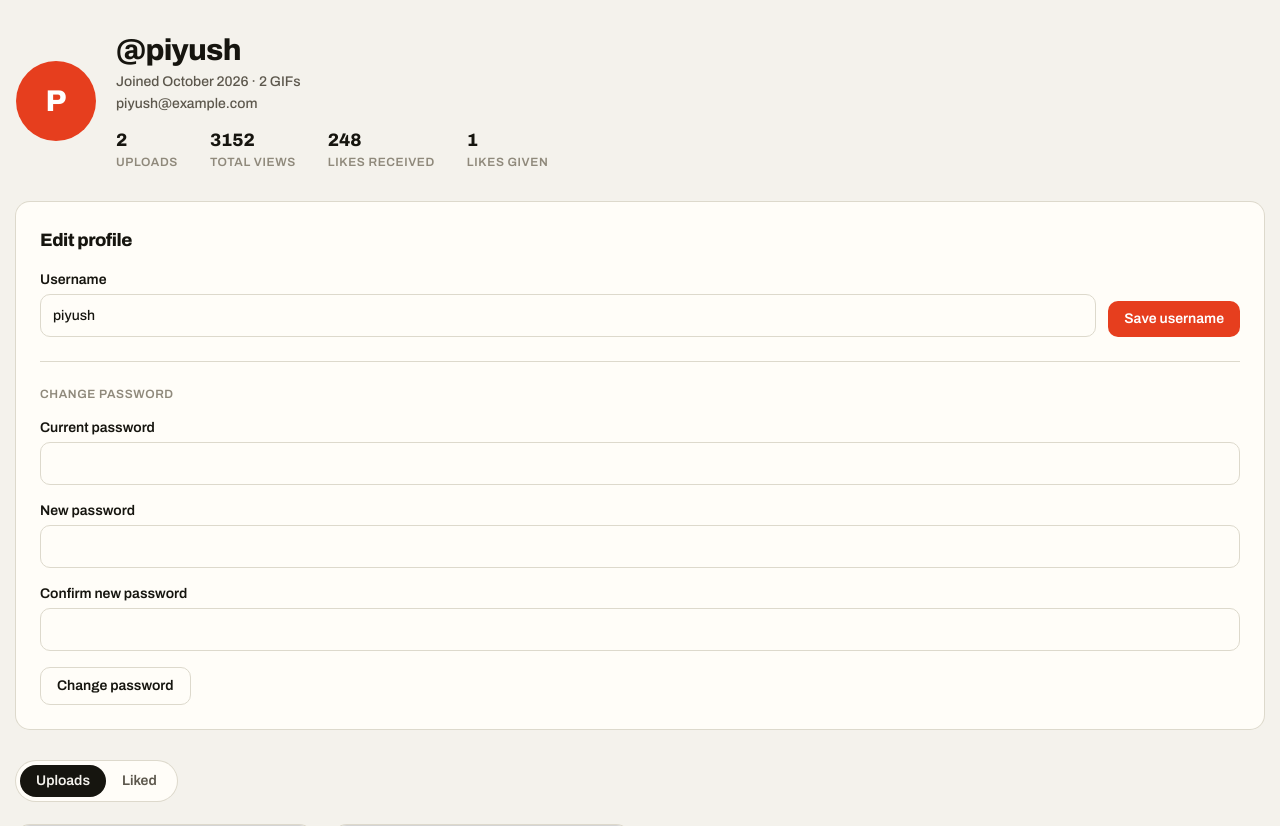
Test: ProfilePage › rename with a taken name: the server error shows on the form
Replace the text in the field with id "edit-username" with "taken" at (568, 316), box x1=40 y1=294 x2=1096 y2=337
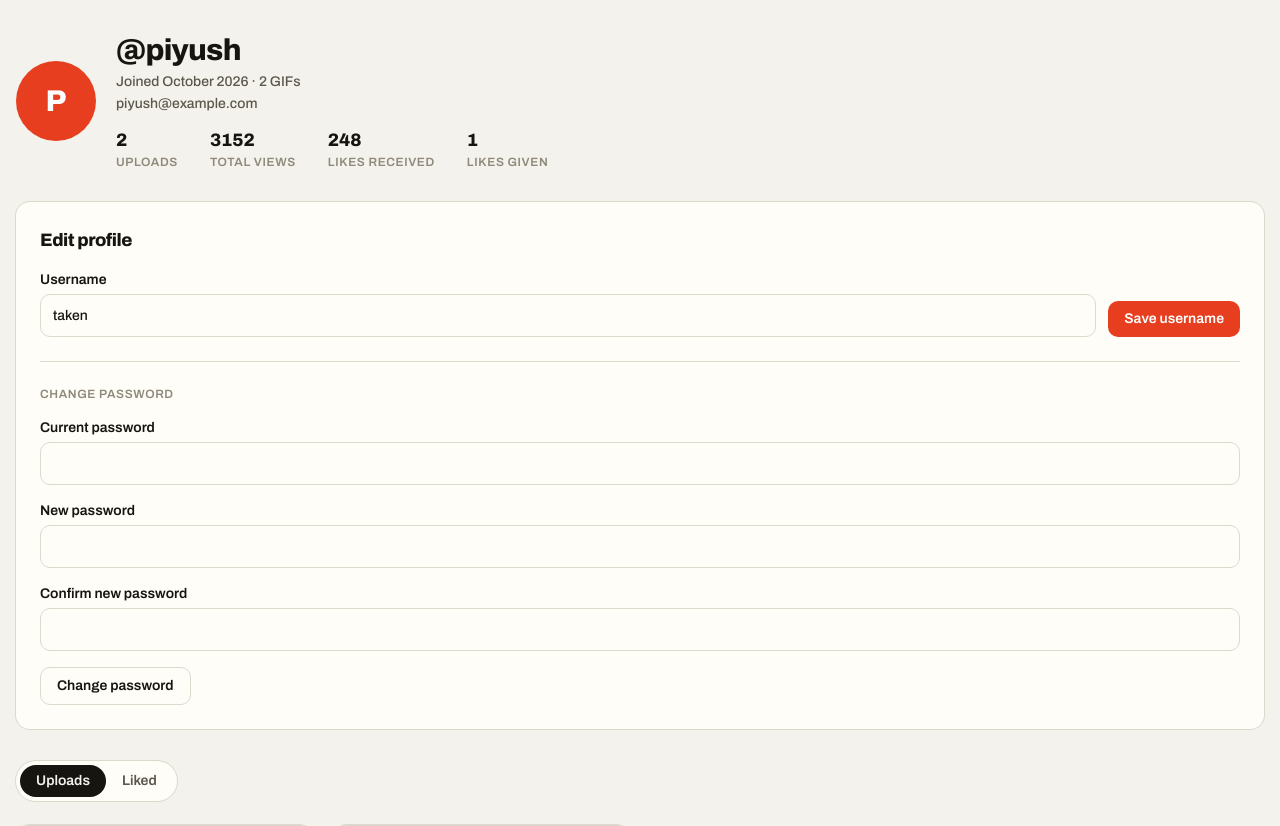
Submit the form "Username Save username", box x1=40 y1=270 x2=1240 y2=337
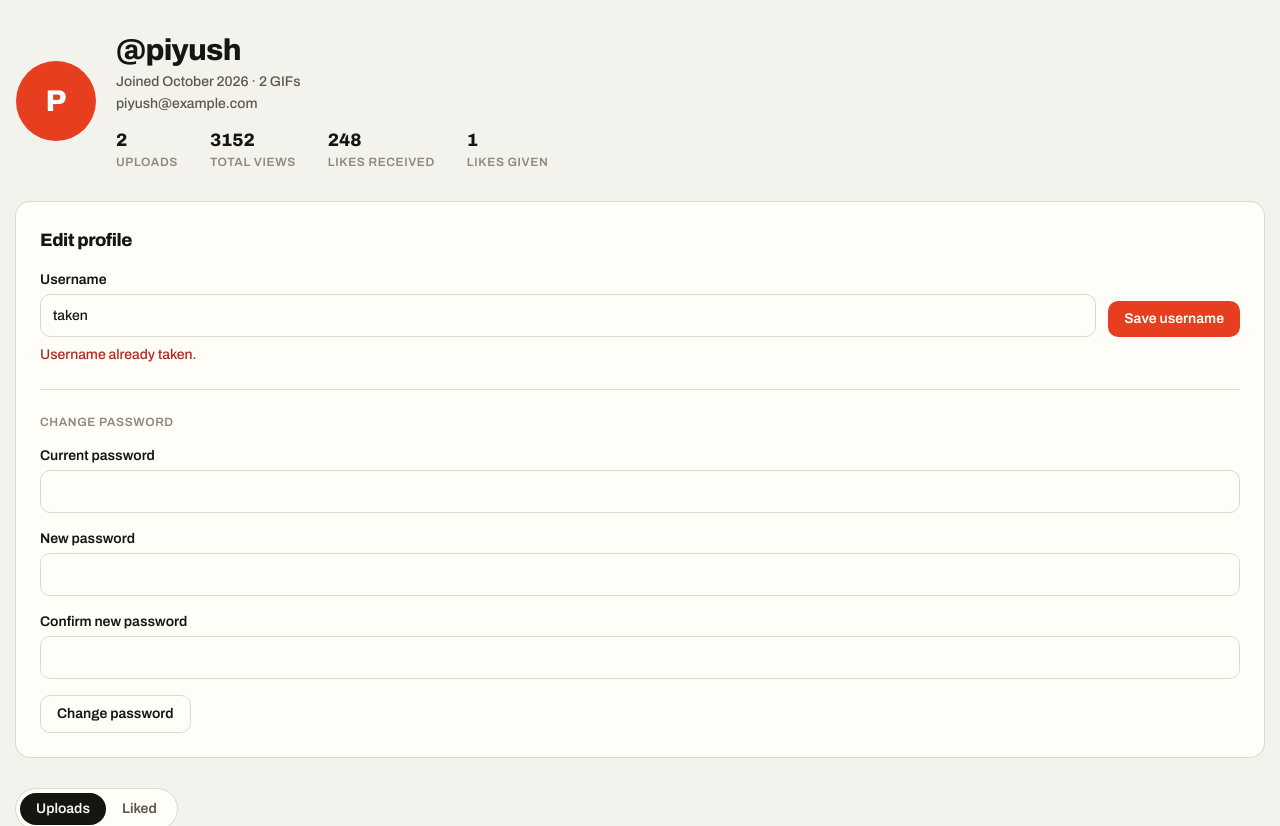
Expected: the message "Username already taken." is shown, x1=40 y1=347 x2=197 y2=362
